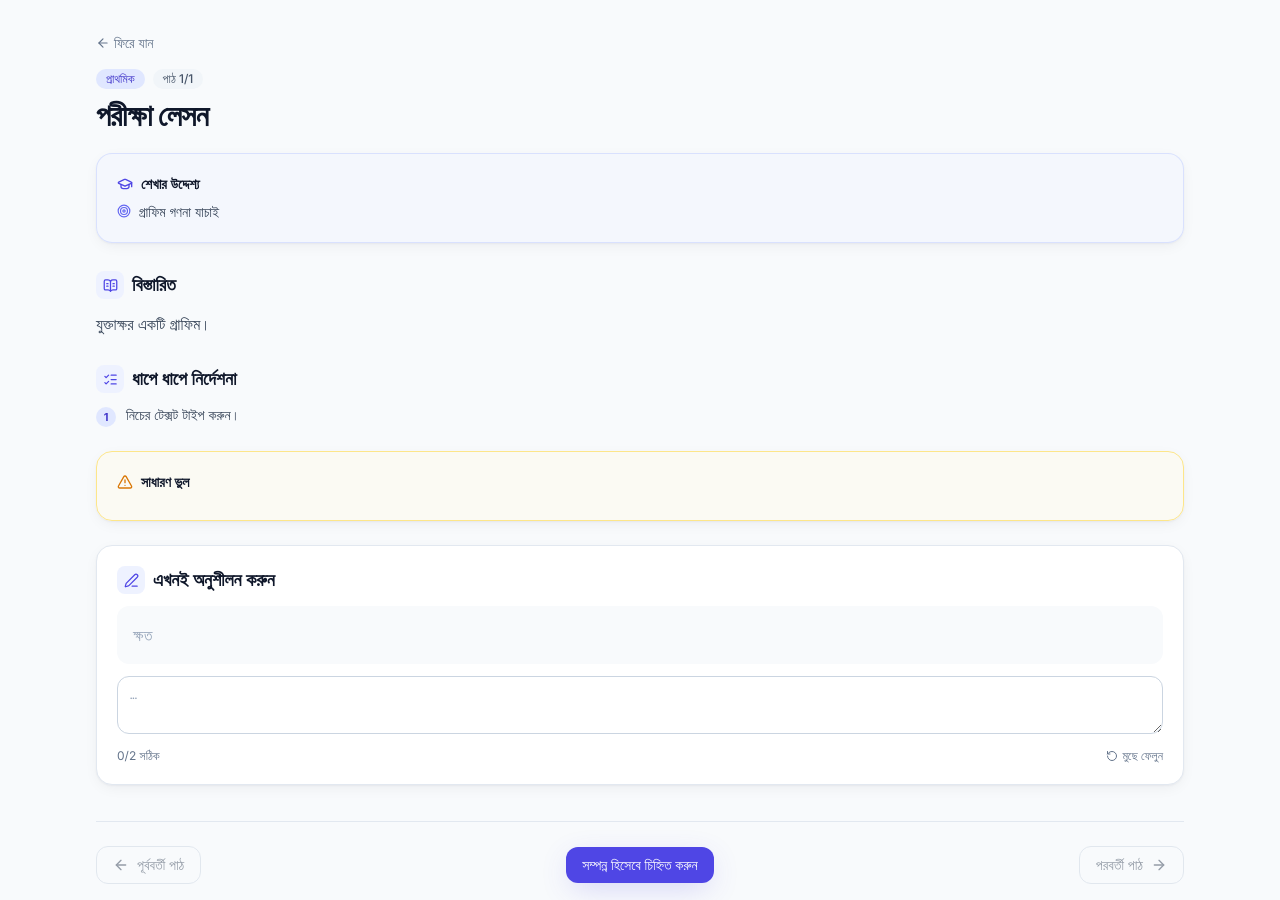
LessonView practice box › counts Bangla graphemes, not UTF-16 units, for the done check
The width and height of the screenshot is (1280, 900).
Type "ক্ষ" into the text box named "Practice input" at (640, 705), box [117, 676, 1163, 734]
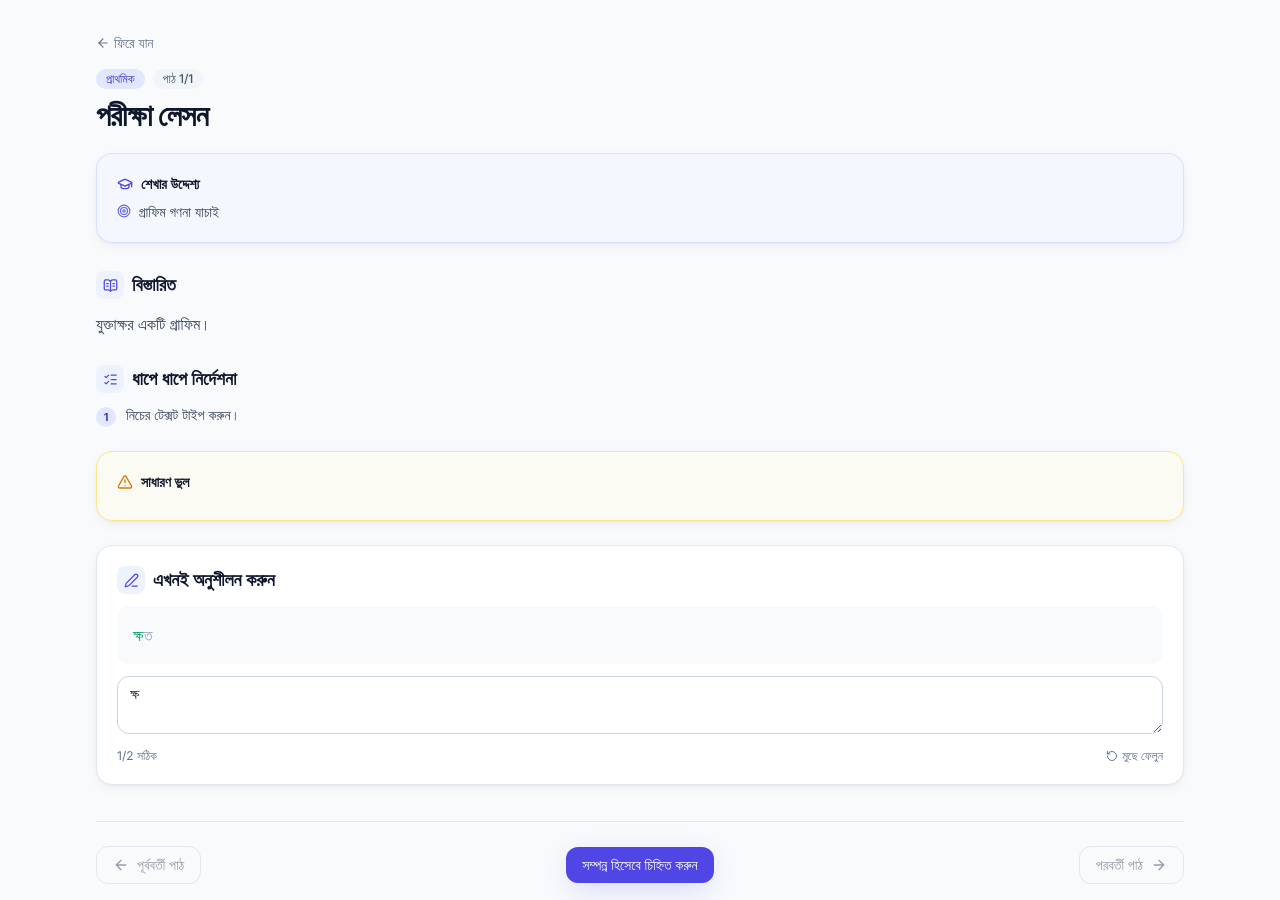
Check: the text "সম্পন্ন!" is not shown
// Completing both graphemes marks the practice done.
Replace the text in the text box named "Practice input" with "ক্ষত" at (640, 705), box [117, 676, 1163, 734]
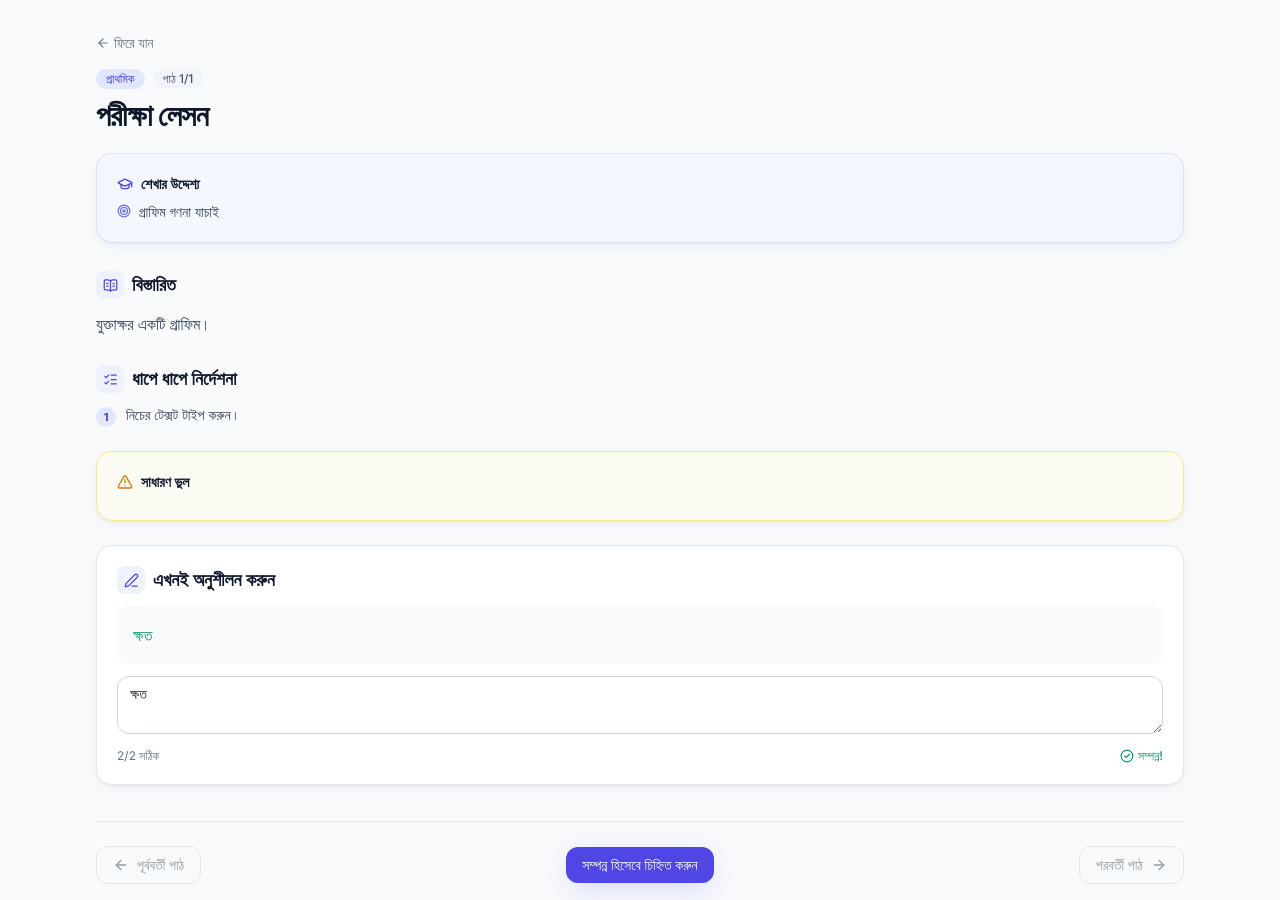
Check: the text "সম্পন্ন!" is shown, box [1120, 748, 1163, 764]
